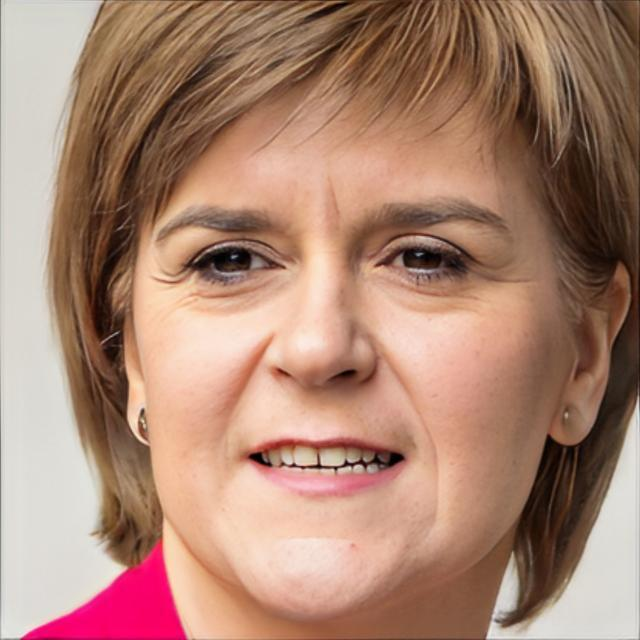disgust: (131, 34, 575, 618)
